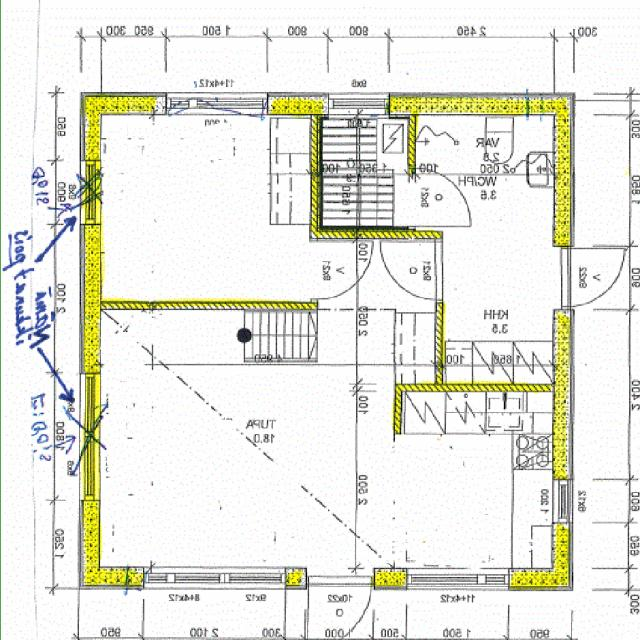door: (308, 567, 373, 640), (554, 248, 632, 307), (381, 242, 445, 299), (310, 241, 372, 299), (408, 170, 467, 223)
